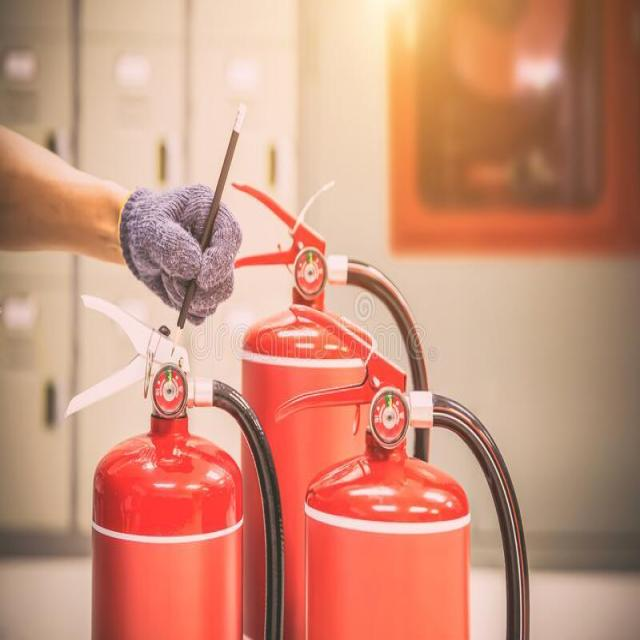fire_extinguisher: (216, 175, 432, 639), (269, 295, 536, 639), (59, 287, 290, 639)
